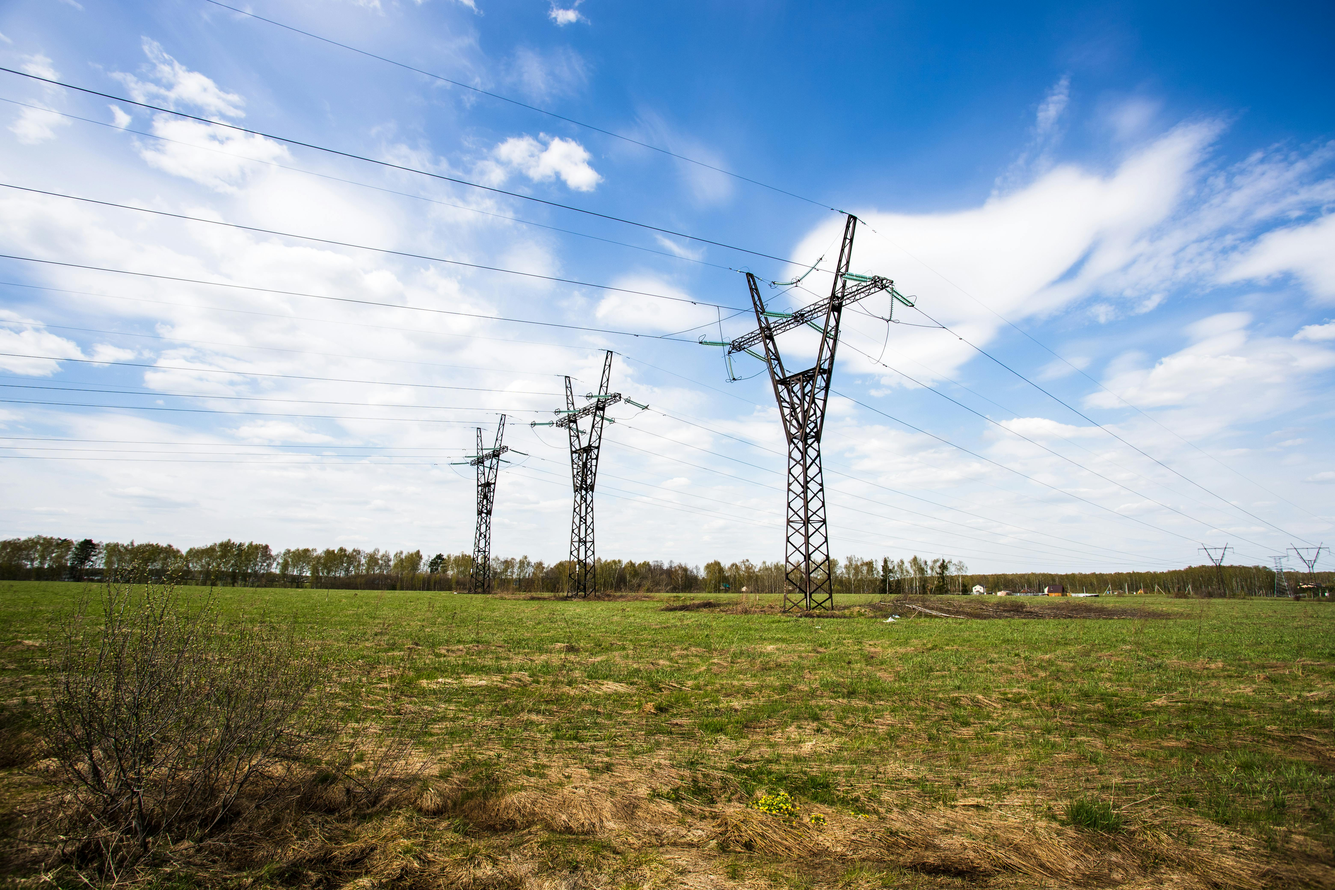insulator: (772, 257, 828, 288), (883, 282, 915, 309), (802, 321, 834, 339), (840, 271, 874, 285), (760, 309, 796, 320), (624, 398, 650, 412), (696, 338, 732, 348), (725, 355, 736, 381), (741, 350, 767, 361), (564, 426, 588, 435), (592, 415, 615, 423), (555, 409, 586, 414), (530, 421, 555, 427), (588, 394, 613, 399)
